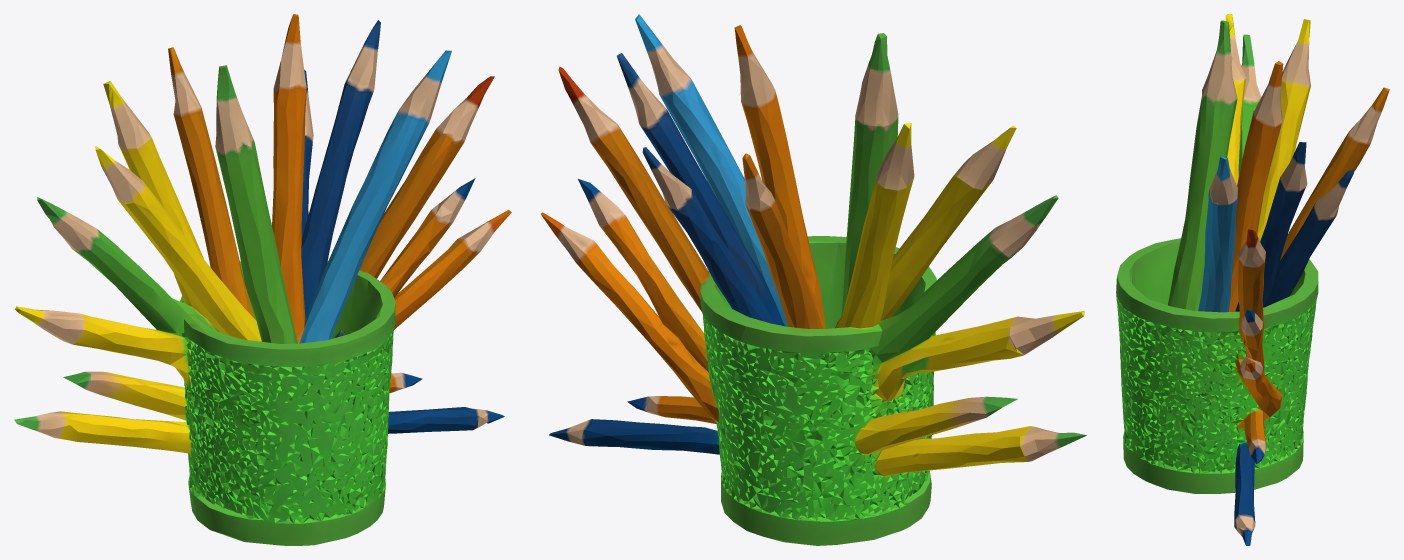
Rendered from pencils.glb.
The picture shows the model from 3 angles, left to right: view 1: azimuth 30°, elevation 25°; view 2: azimuth 150°, elevation 25°; view 3: azimuth 270°, elevation 25°; orthographic projection. The views are drawn at different scales.
Parts seen in each view (by area): view 1: model; view 2: model; view 3: model.
Boxes of the visible parts, x1=… form: model: x1=14, y1=14, x2=511, y2=545; model: x1=541, y1=14, x2=1086, y2=545; model: x1=1116, y1=14, x2=1389, y2=545.
Size of the model in its own units: 1.91 by 1.66 by 0.9903.
1 material, 1 textured.
